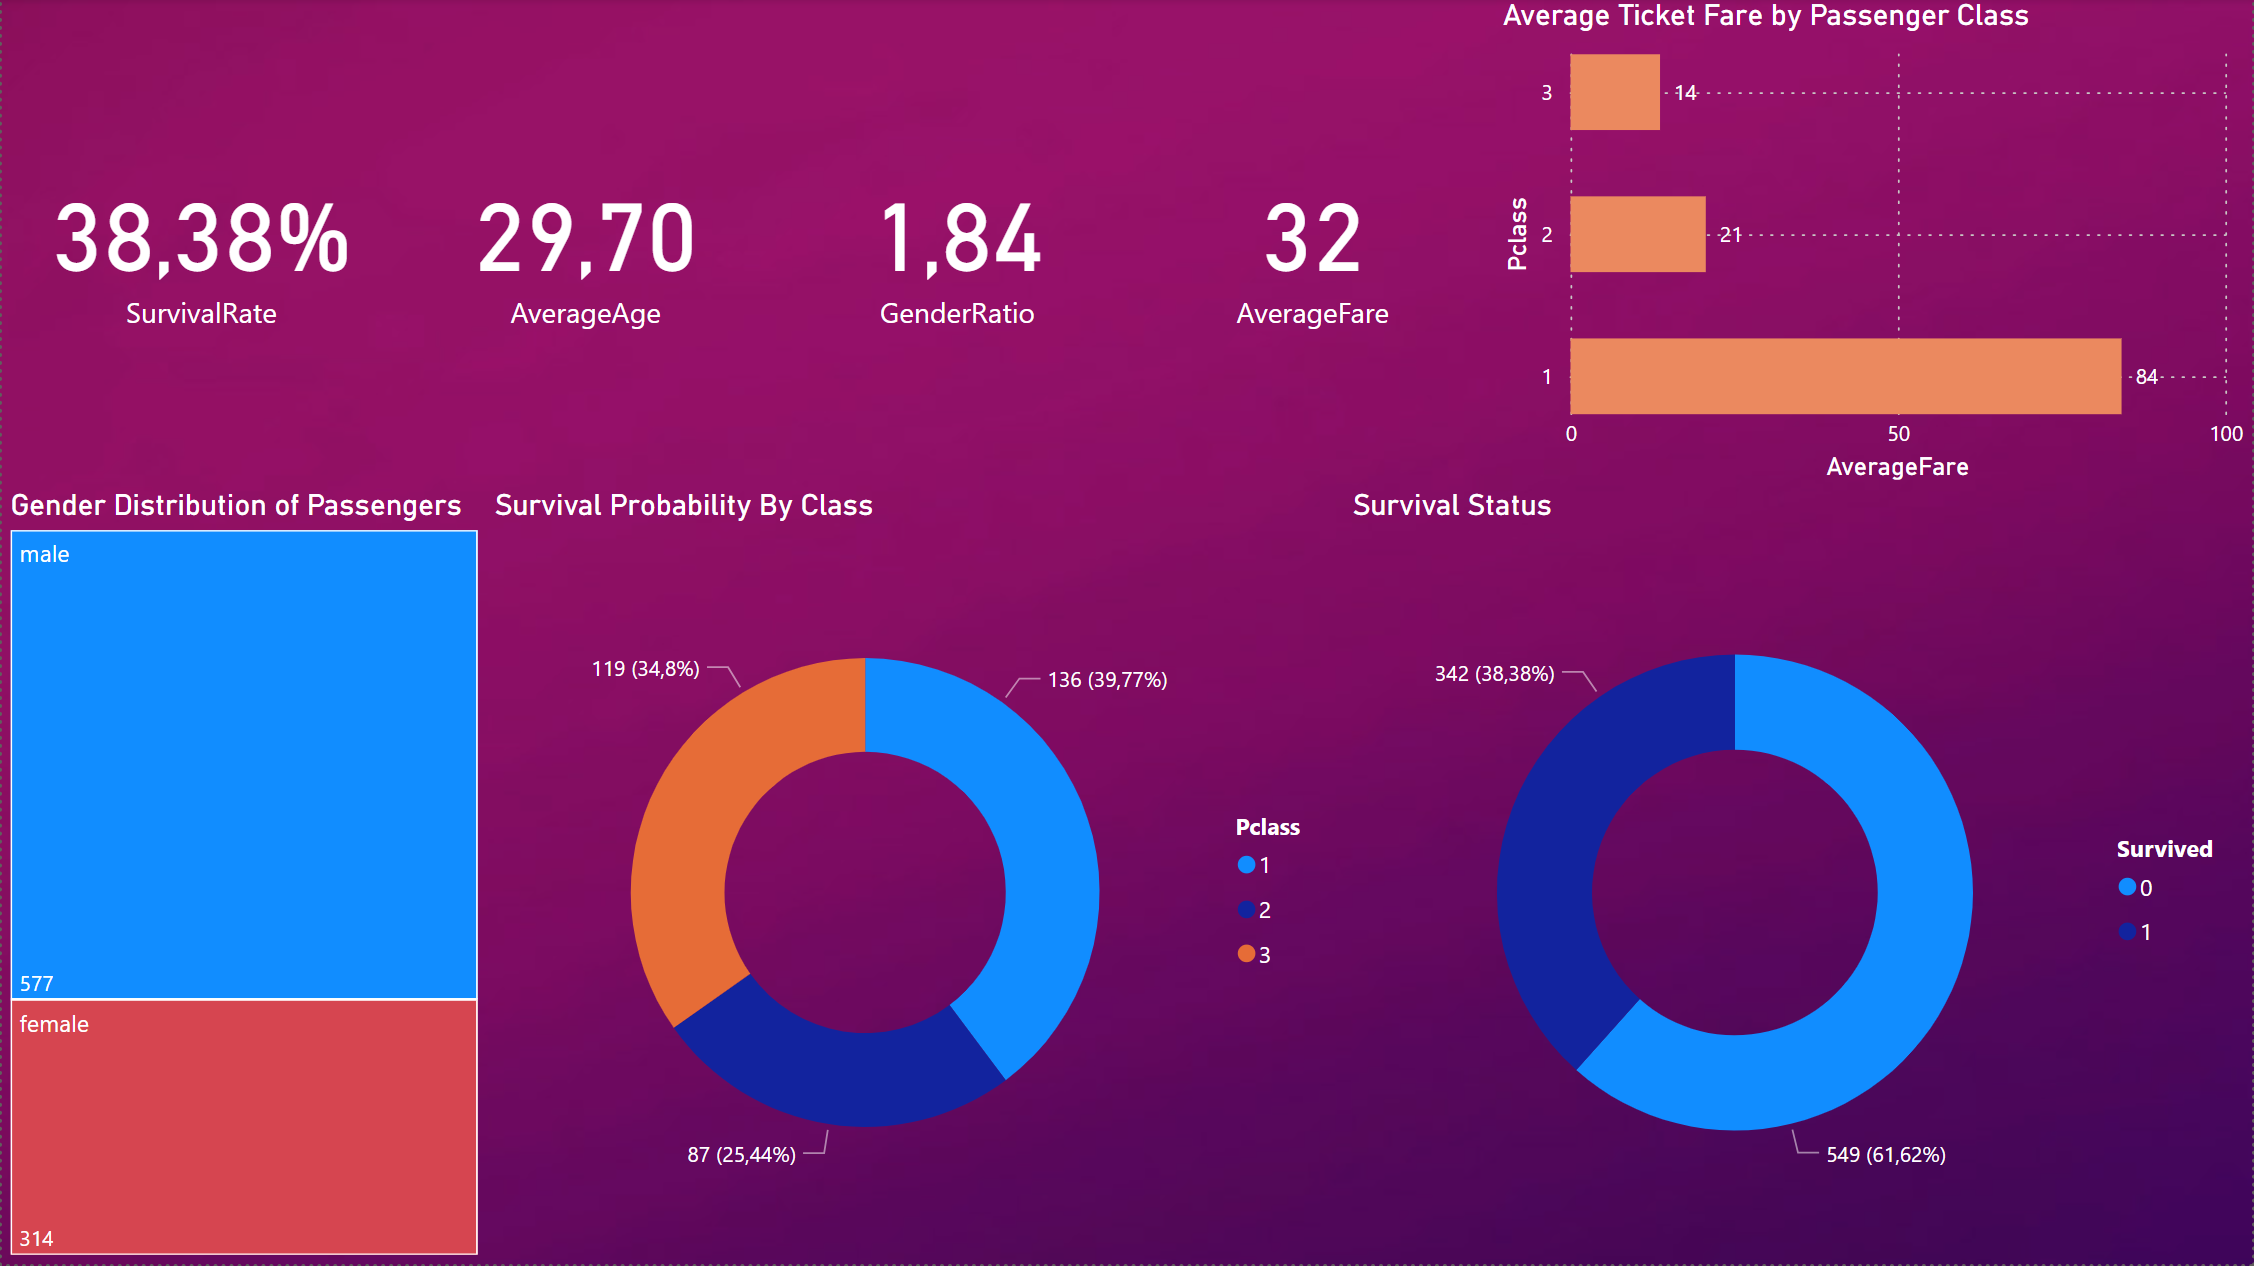

The dashboard page shown, as its layout file describes it:
{"tool":"powerbi","page":{"name":"Page 1","canvas":[1280,720],"ordinal":0},"visuals":[{"type":"card","fields":{"Values":["titanic.SurvivalRate"]},"box":[10.2,0,206.5,280.5],"z":0},{"type":"card","fields":{"Values":["titanic.AverageAge"]},"box":[216.7,0,229.5,280.5],"z":1000},{"type":"card","fields":{"Values":["titanic.GenderRatio"]},"box":[446.2,0,195.1,280.5],"z":2000},{"type":"donutChart","title":"Survival Probability By Class","fields":{"Y":["Sum(titanic.Survived)"],"Series":["titanic.Pclass"]},"box":[275.4,279.2,488.3,441.1],"z":3000},{"type":"card","fields":{"Values":["titanic.AverageFare"]},"box":[640,0,210.4,280.5],"z":4000},{"type":"treemap","title":"Gender Distribution of Passengers","fields":{"Group":["titanic.Sex"],"Values":["CountNonNull(titanic.PassengerId)"]},"box":[0,279.2,275.4,441.1],"z":5000},{"type":"barChart","title":"Average Ticket Fare by Passenger Class","fields":{"Category":["titanic.Pclass"],"Y":["titanic.AverageFare"]},"box":[849.1,0,430.9,279.2],"z":6000},{"type":"donutChart","title":"Survival Status","fields":{"Category":["titanic.Survived"],"Y":["CountNonNull(titanic.PassengerId)"]},"box":[763.7,279.2,517.6,441.1],"z":7000}]}

Visuals, with their boxes in screenshot pixels (x1, y1, x2, y2), scaled from the page's 1280x720 canvas onto the 2254x1266 screenshot:
card - titanic.SurvivalRate: 18:0:382:493
card - titanic.AverageAge: 382:0:786:493
card - titanic.GenderRatio: 786:0:1129:493
"Survival Probability By Class" donutChart: 485:491:1345:1265
card - titanic.AverageFare: 1127:0:1498:493
"Gender Distribution of Passengers" treemap: 0:491:485:1265
"Average Ticket Fare by Passenger Class" barChart: 1495:0:2253:491
"Survival Status" donutChart: 1345:491:2253:1265
